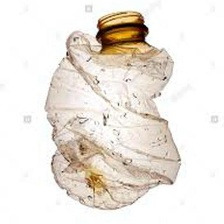bottle: (41, 8, 184, 215)
